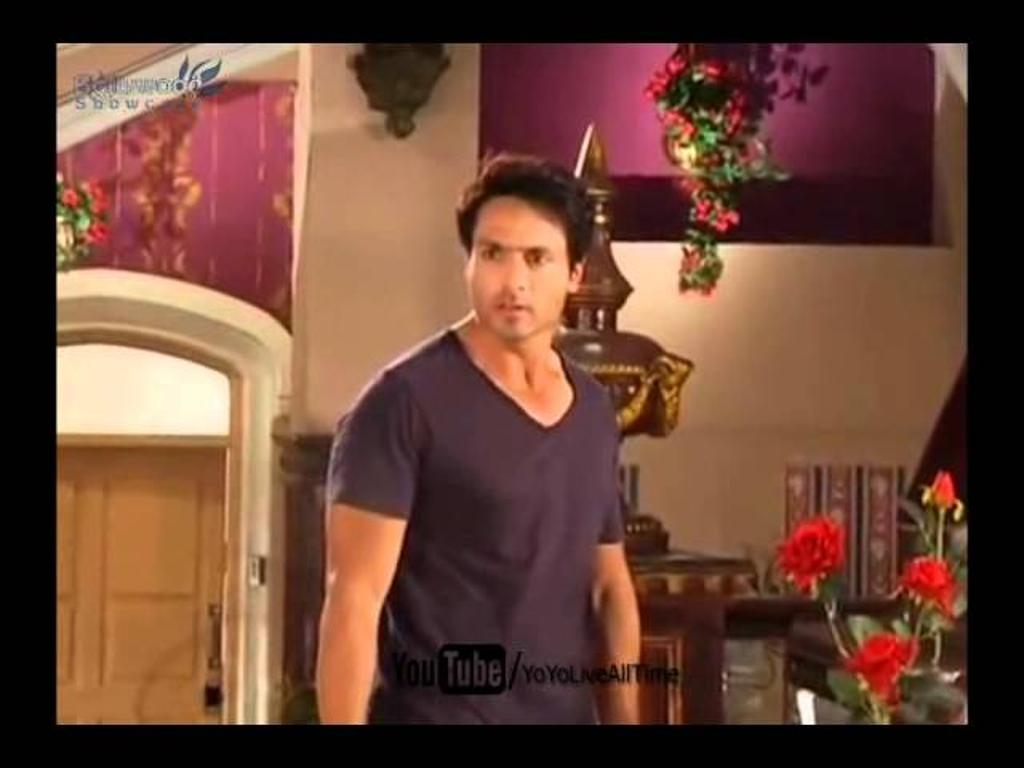face: (464, 194, 580, 340)
